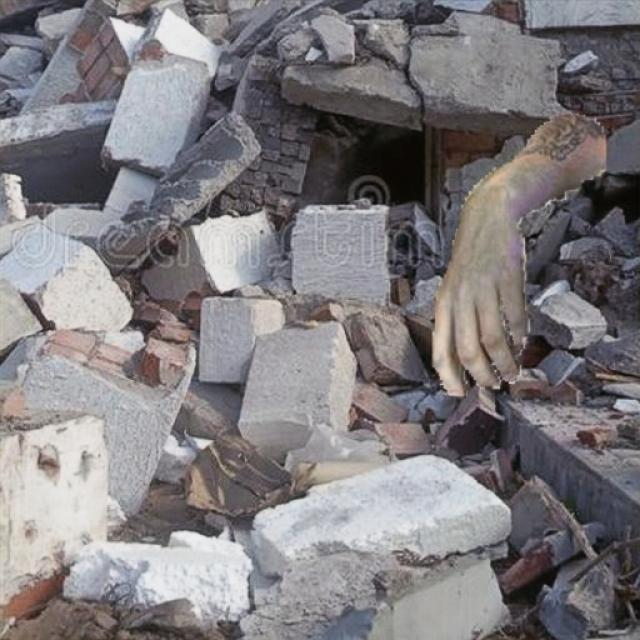Person in Rubble: (432, 114, 606, 396)
